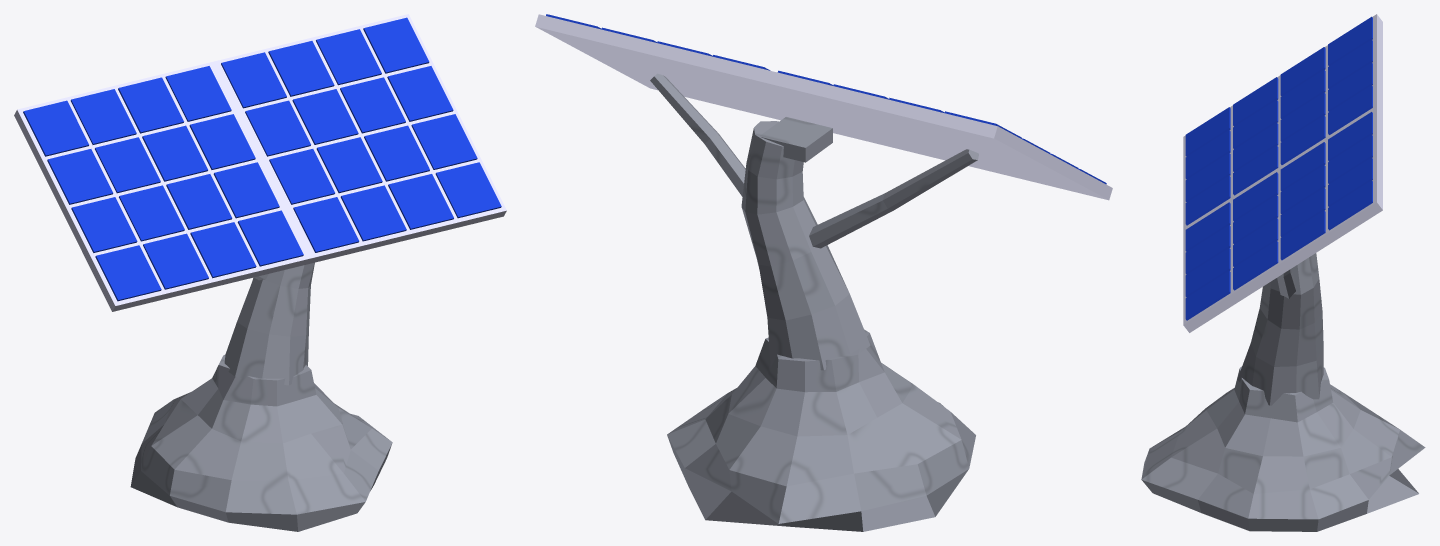
The model's file is Panneau_Solaire.glb.
3 views of the same model, side by side, from view 1: azimuth 30°, elevation 25°; view 2: azimuth 150°, elevation 25°; view 3: azimuth 270°, elevation 25° (orthographic). The views are drawn at different scales.
Parts seen in each view (by area): view 1: Panneau_Solaire; view 2: Panneau_Solaire; view 3: Panneau_Solaire.
Part boxes in pixels (bbox=[...]): Panneau_Solaire: bbox=[14, 14, 506, 531]; Panneau_Solaire: bbox=[535, 14, 1112, 531]; Panneau_Solaire: bbox=[1141, 14, 1425, 531].
Bounding box in the file's own units: 4.9 × 4.49 × 3.13.
3 materials, 1 textured.
